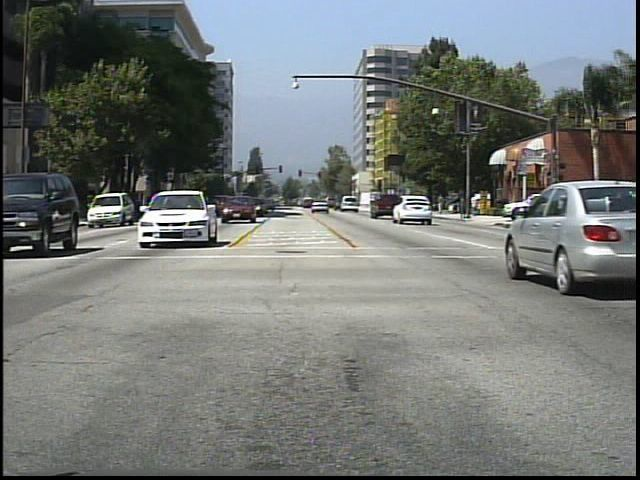person: (471, 191, 482, 219), (437, 192, 448, 217)
